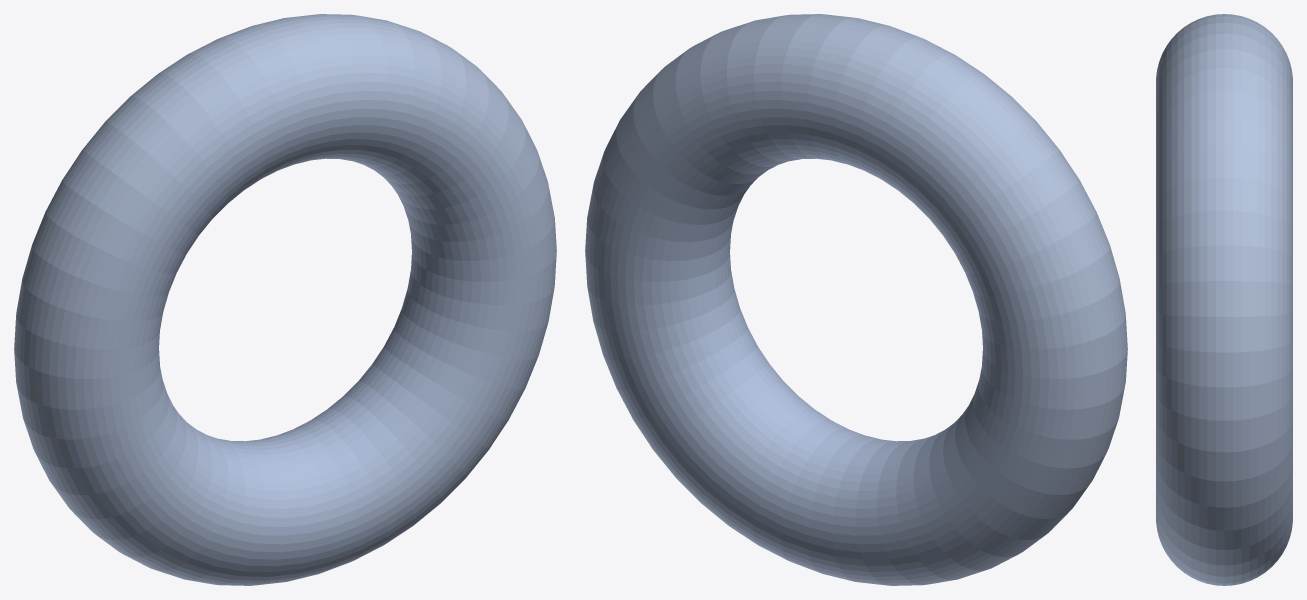
The picture shows the model from 3 angles, left to right: view 1: azimuth 30°, elevation 25°; view 2: azimuth 150°, elevation 25°; view 3: azimuth 270°, elevation 25°; orthographic projection. The views are drawn at different scales.
Parts seen in each view (by area): view 1: world; view 2: world; view 3: world.
Boxes of the visible parts, x1=… form: world: x1=14, y1=14, x2=556, y2=585; world: x1=585, y1=14, x2=1127, y2=585; world: x1=1156, y1=14, x2=1292, y2=585.
Bounding box in the file's own units: 22.8 × 22.76 × 5.46.
